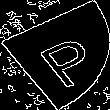P_NW: (15, 23, 95, 87)
